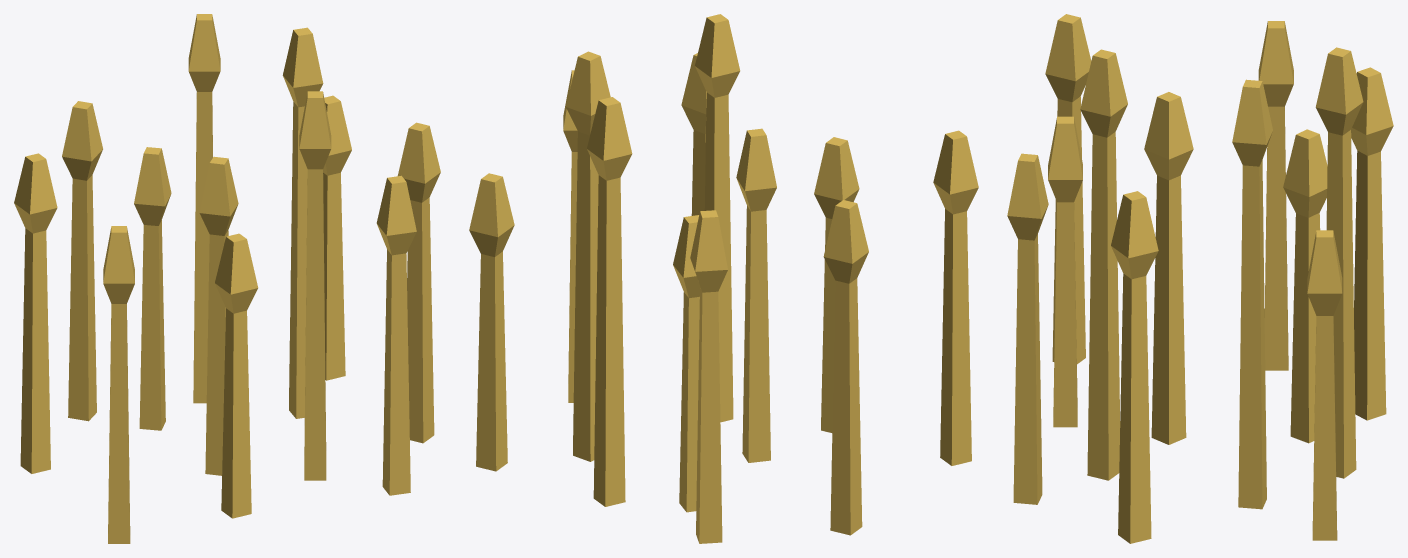
Rendered from wheat.glb.
The picture shows the model from 3 angles, left to right: view 1: azimuth 30°, elevation 25°; view 2: azimuth 150°, elevation 25°; view 3: azimuth 270°, elevation 25°; orthographic projection. The views are drawn at different scales.
Visible parts, largest first — view 1: crops_wheatStageB; view 2: crops_wheatStageB; view 3: crops_wheatStageB.
Part boxes in pixels (x1,y1,x2,y2): crops_wheatStageB: (14,14,440,543); crops_wheatStageB: (469,14,978,543); crops_wheatStageB: (1007,14,1393,543).
Bounding box in the file's own units: 0.5396 × 0.5349 × 0.4467.
